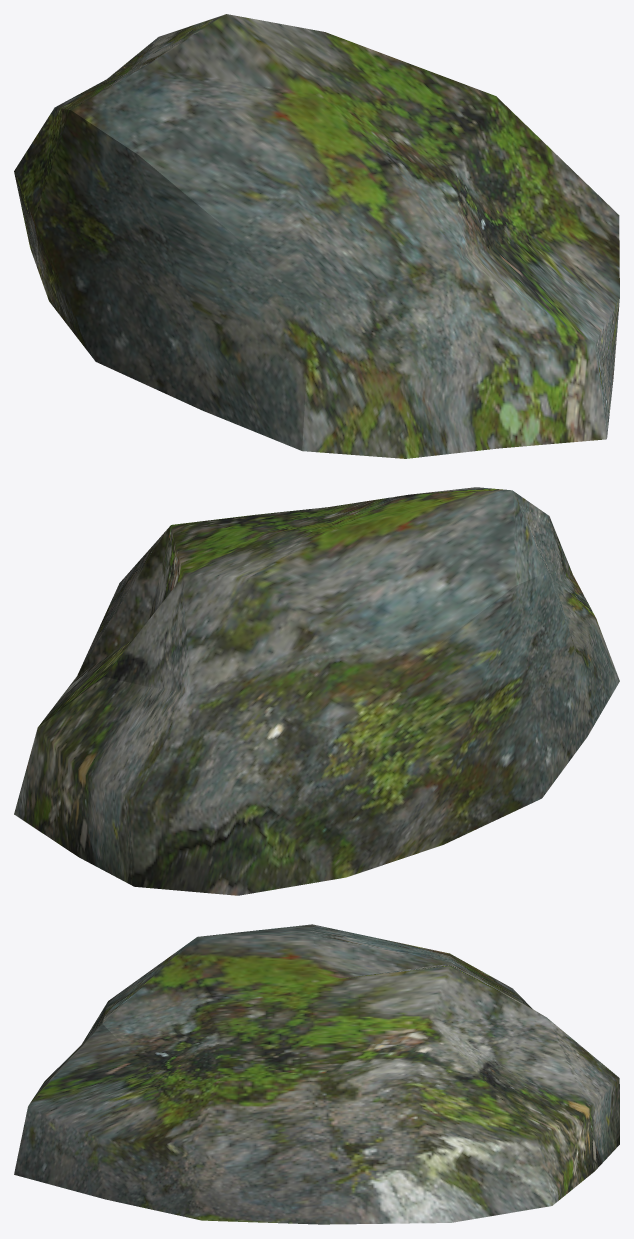
The model's file is Deco.RockB.fbx.
3 views of the same model, one above another, from view 1: azimuth 30°, elevation 25°; view 2: azimuth 150°, elevation 25°; view 3: azimuth 270°, elevation 25° (orthographic). The views are drawn at different scales.
Visible parts, largest first — view 1: LP_Rock_03; view 2: LP_Rock_03; view 3: LP_Rock_03.
Part boxes in pixels (box(x1,y1,x2,y2)): LP_Rock_03: box(14, 14, 619, 458); LP_Rock_03: box(14, 487, 619, 895); LP_Rock_03: box(14, 924, 619, 1224).
Size of the model in its own units: 163 by 82.63 by 258.
